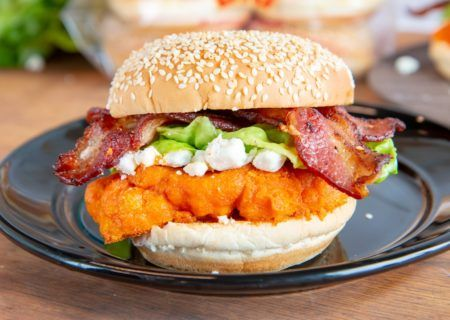hamburger_buns: (89, 23, 356, 110), (126, 195, 385, 279)
